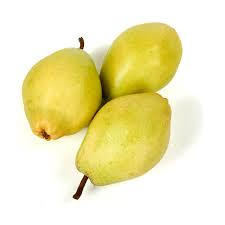pear: (75, 94, 172, 191), (20, 45, 110, 135)
